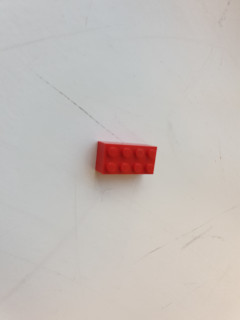2x4 red: (94, 139, 159, 180)
